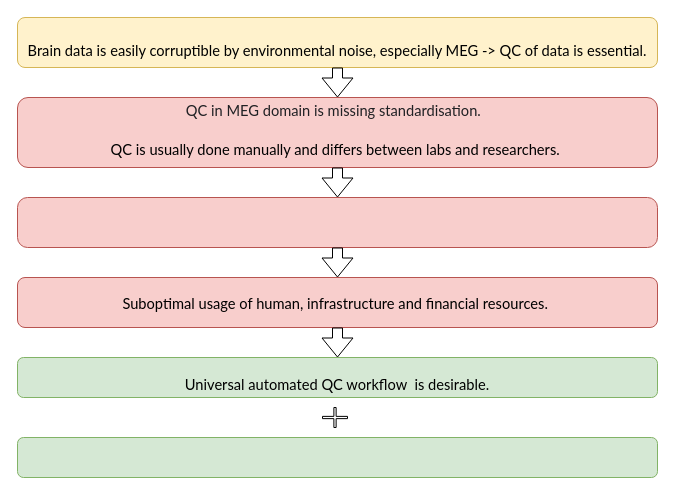
The diagram is 675 pixels wide and 499 high, and some of its shapes have lost their labels. Here are the shapes that lost their labels. From the top down, the centre of each, then its label:
At pixel 337 222: "Low chances to reuse data if quality is poor.".
At pixel 337 457: "MRI QC already exists, which was the inspiration for this software.".
